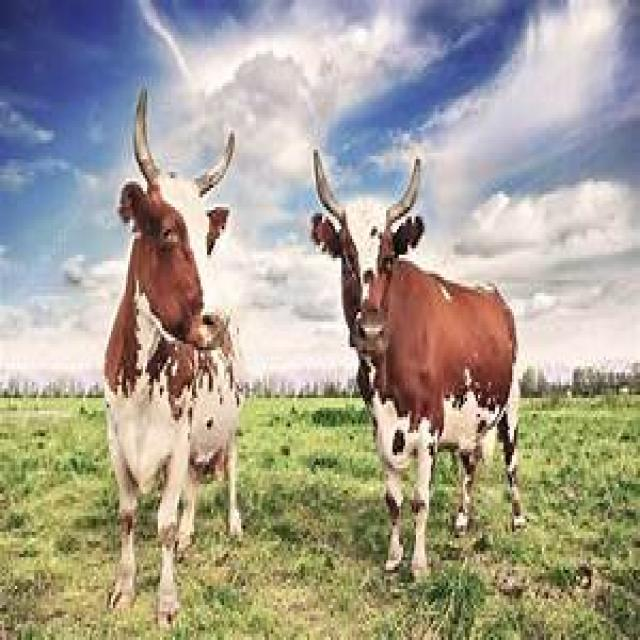cow: (312, 151, 525, 576), (104, 90, 241, 624)
